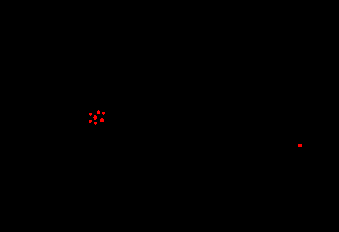Target: (93, 115, 97, 120), (100, 118, 104, 122), (97, 110, 100, 114), (298, 144, 302, 147), (102, 112, 105, 115), (89, 113, 92, 116), (89, 120, 92, 123), (94, 122, 97, 125)
